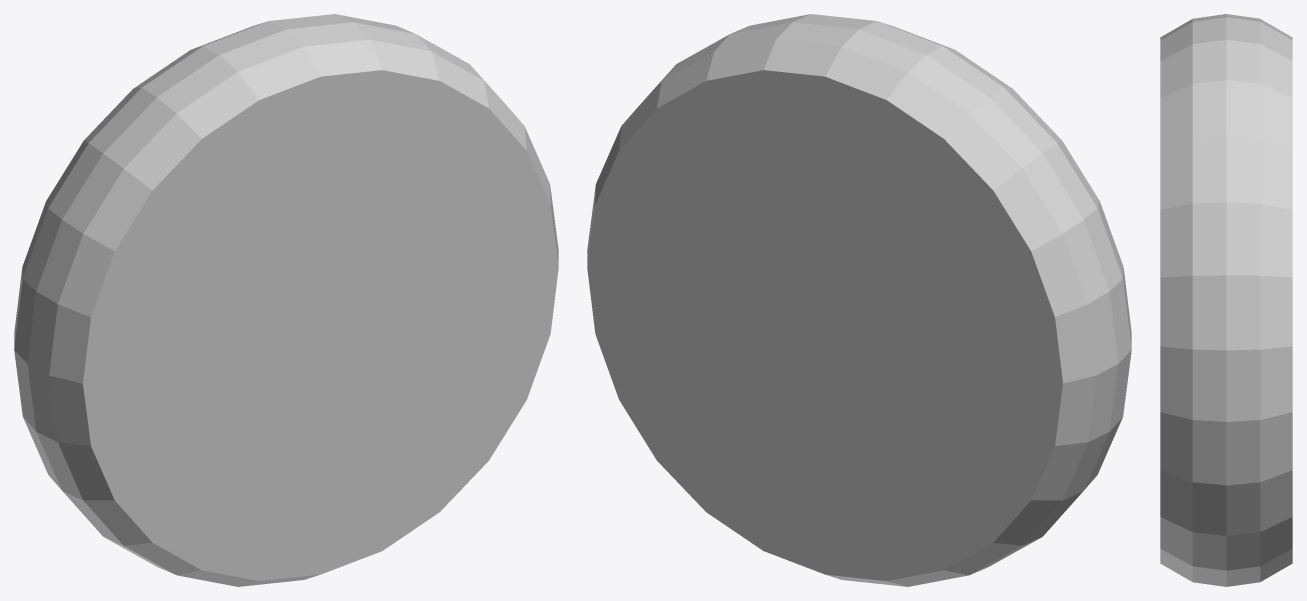
File: powerup.glb
The picture shows the model from 3 angles, left to right: view 1: azimuth 30°, elevation 25°; view 2: azimuth 150°, elevation 25°; view 3: azimuth 270°, elevation 25°; orthographic projection. The views are drawn at different scales.
Parts seen in each view (by area): view 1: Face, Powerup; view 2: Powerup; view 3: Powerup.
Boxes of the visible parts, x1,y1,x2,y2 form: Face: (83, 70, 558, 580); Powerup: (14, 14, 558, 586); Powerup: (587, 14, 1131, 586); Powerup: (1160, 14, 1292, 586).
Bounding box in the file's own units: 2.18 × 2.18 × 0.5.
Materials: 1 (1 with a texture image).
